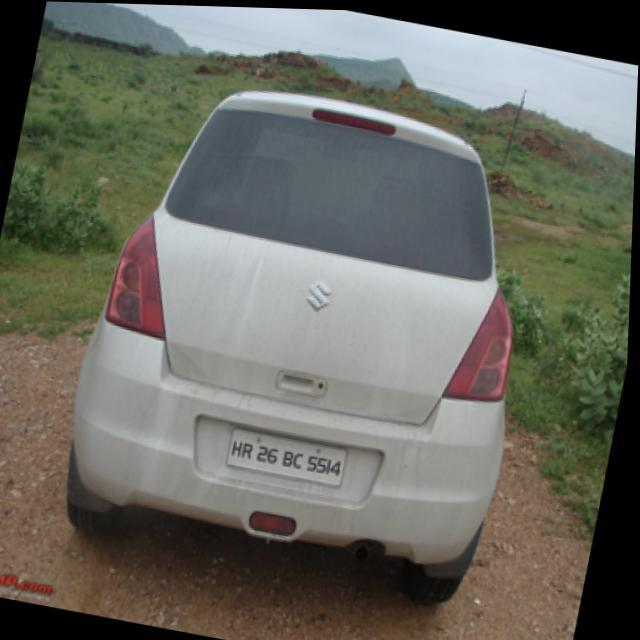license_plate: (229, 424, 353, 484)
